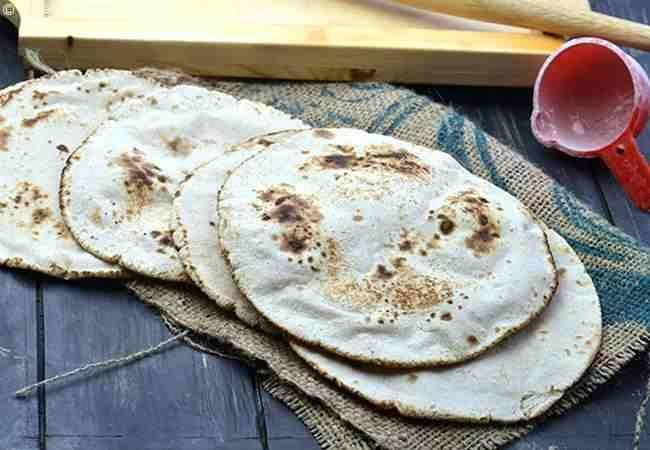bhakri: (301, 172, 610, 424), (228, 123, 548, 345), (179, 124, 364, 347), (64, 88, 284, 271), (2, 70, 161, 289)
